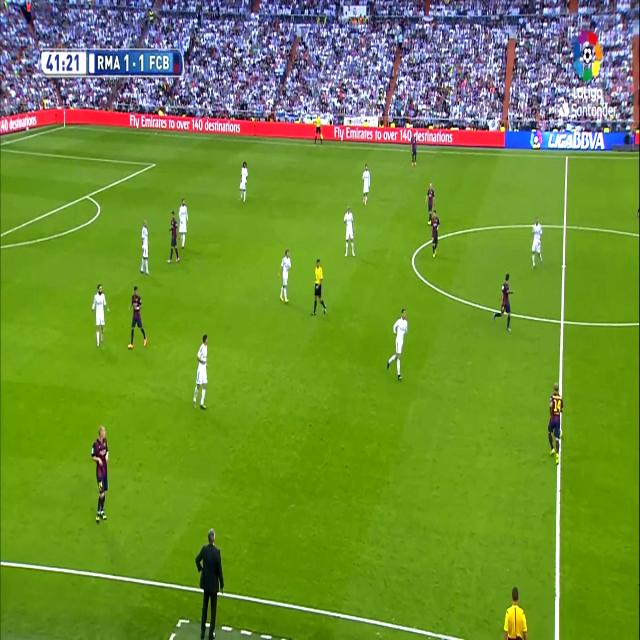bigarea_bottom_outter: (84, 188, 92, 202)
halfcircle_bottom: (556, 308, 568, 333)
halfcircle_top: (560, 215, 570, 237)
midline_top_intersection: (563, 151, 570, 162)
